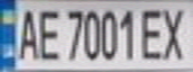0: (81, 4, 103, 61), (100, 4, 118, 61)
1: (118, 4, 139, 61)
7: (60, 4, 84, 61)
A: (12, 3, 42, 61)
E: (33, 3, 63, 62), (139, 3, 169, 61)
X: (157, 2, 193, 62)
